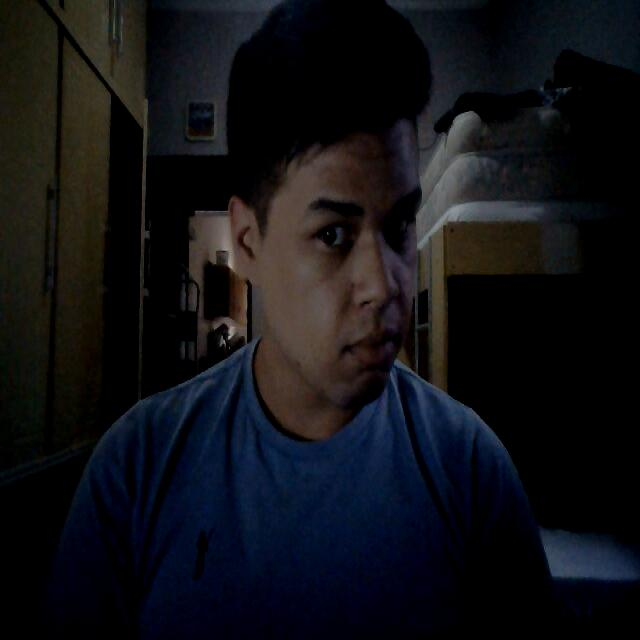acordado: (225, 45, 427, 418)
